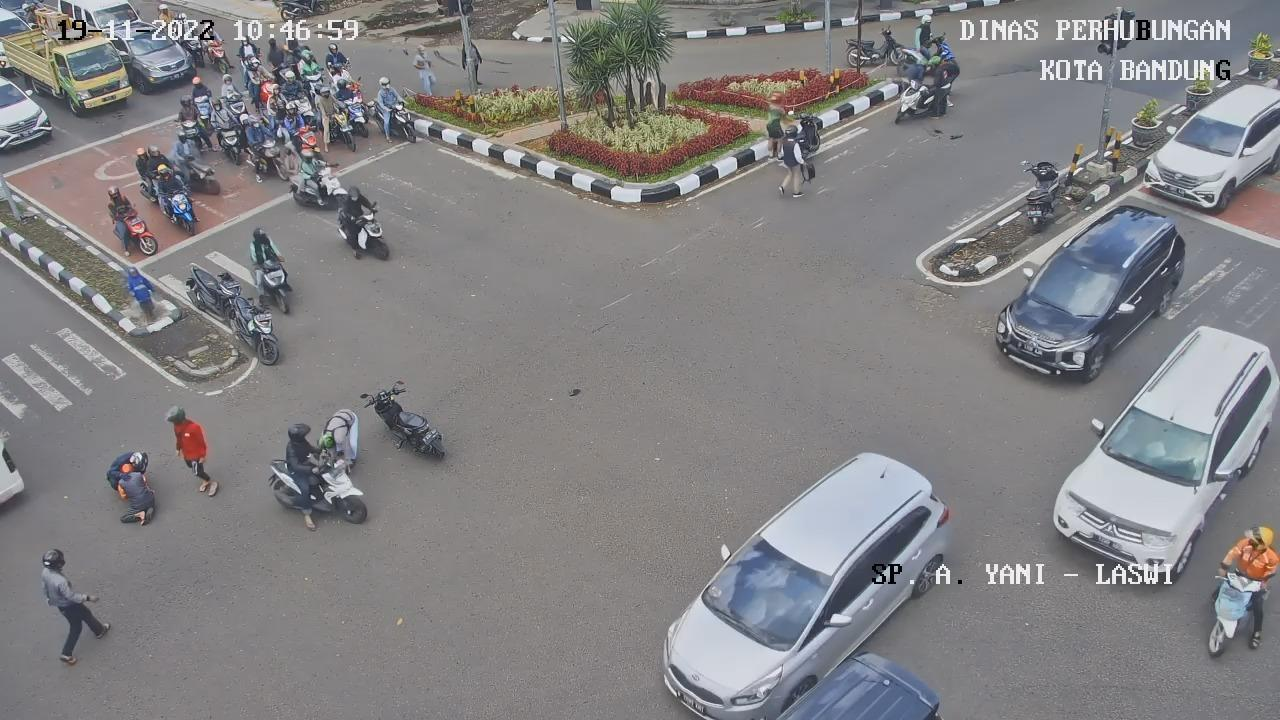accident: (100, 445, 165, 525)
